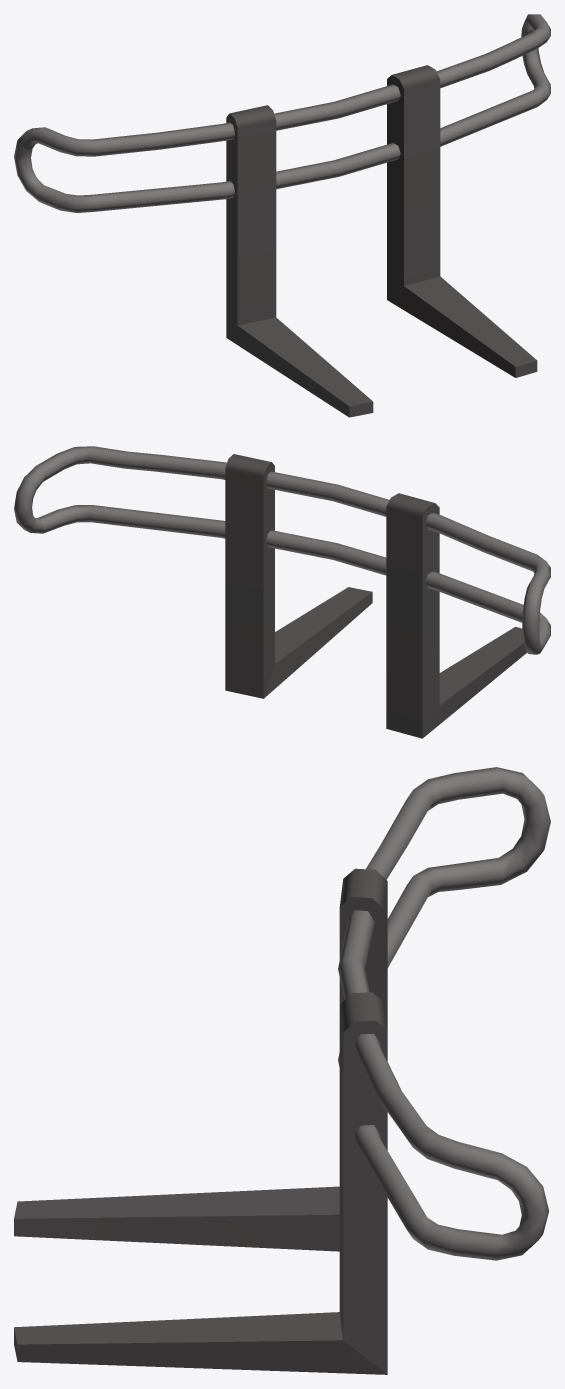
Rendered from Apocalypse_Car_01_Armor_01.fbx.
The picture shows the model from 3 angles, top to bottom: view 1: azimuth 30°, elevation 25°; view 2: azimuth 150°, elevation 25°; view 3: azimuth 270°, elevation 25°; orthographic projection. The views are drawn at different scales.
Visible parts, largest first — view 1: Apocalypse_Car_01_Armor_01; view 2: Apocalypse_Car_01_Armor_01; view 3: Apocalypse_Car_01_Armor_01.
Part boxes in pixels (x1,y1,x2,y2): Apocalypse_Car_01_Armor_01: (14, 14, 550, 417); Apocalypse_Car_01_Armor_01: (14, 446, 550, 738); Apocalypse_Car_01_Armor_01: (14, 767, 550, 1374).
Size of the model in its own units: 225 by 129 by 93.93.
